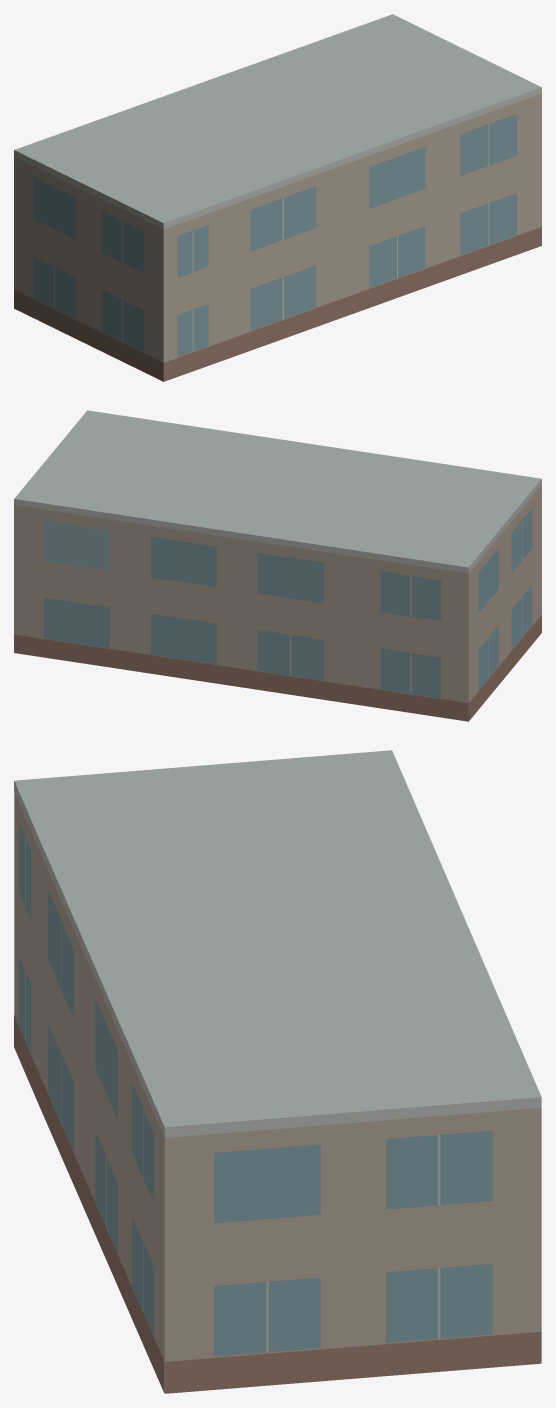
Rendered from survey-upis-32946760.glb.
The picture shows the model from 3 angles, top to bottom: view 1: azimuth 30°, elevation 25°; view 2: azimuth 150°, elevation 25°; view 3: azimuth 270°, elevation 25°; orthographic projection. The views are drawn at different scales.
Visible parts, largest first — view 1: survey-upis-32946760.tmp; view 2: survey-upis-32946760.tmp; view 3: survey-upis-32946760.tmp.
Part boxes in pixels (left/top/right/bottom): survey-upis-32946760.tmp: left=14, top=14, right=541, bottom=381; survey-upis-32946760.tmp: left=14, top=410, right=541, bottom=721; survey-upis-32946760.tmp: left=14, top=750, right=541, bottom=1393.
Size of the model in its own units: 18.53 by 6.1 by 10.96.
